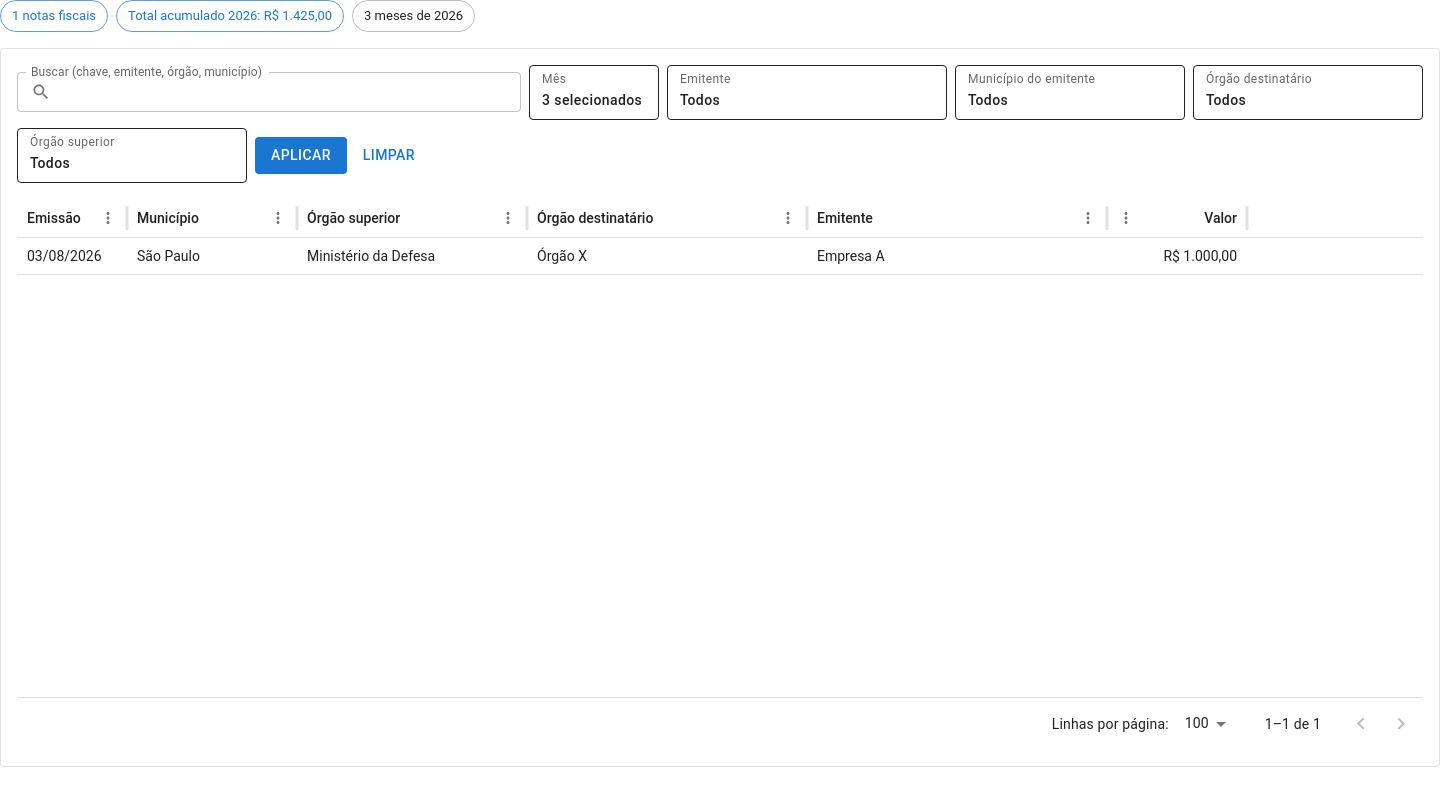
Test: TabelaNotas › pré-seleciona todos os meses do recorte e formata MM/AAAA
Click the button "Mês 3 selecionados".
click(594, 92)  # box [529,65,659,120]
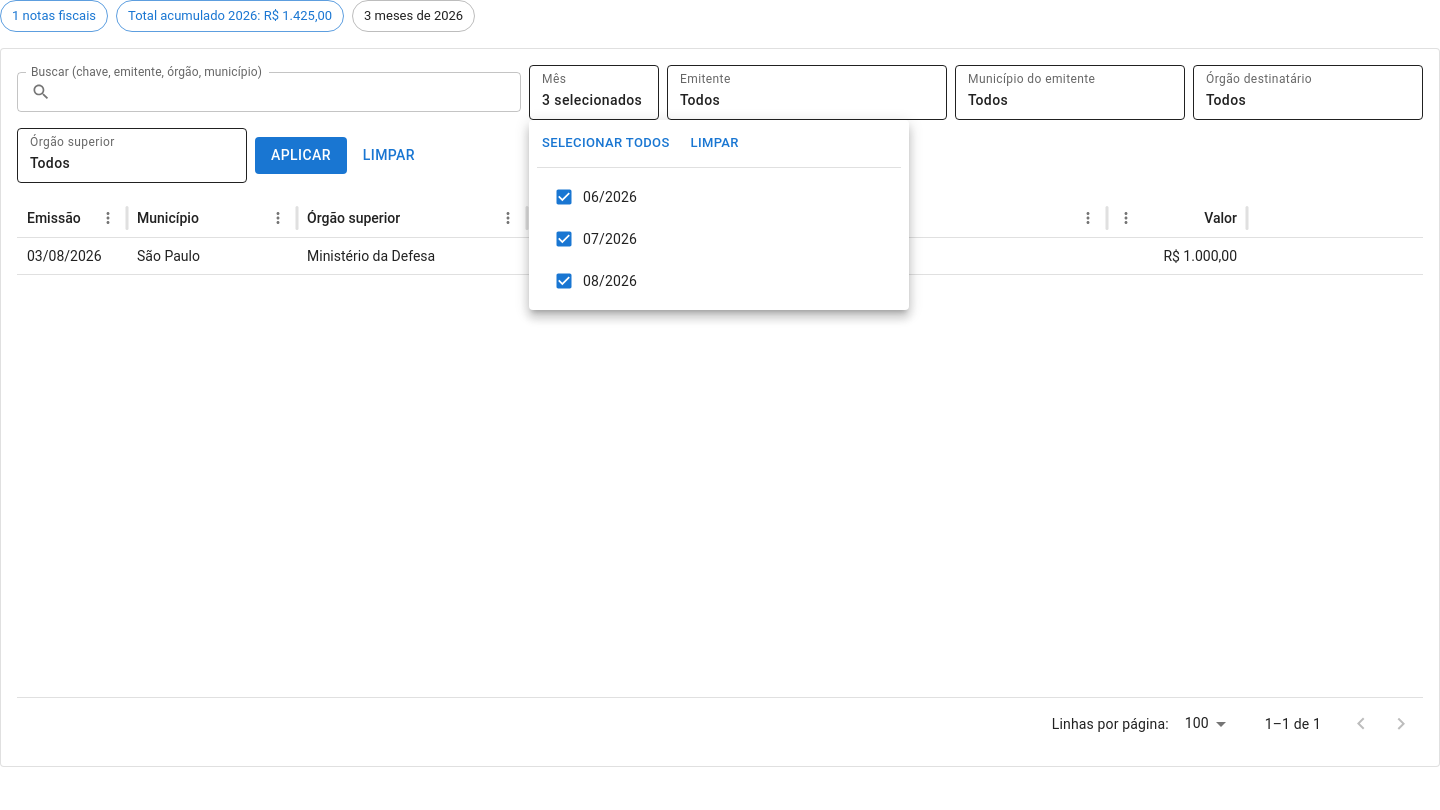
Result: the text "06/2026" is shown at [583,187,637,207]
Result: the text "07/2026" is shown at [583,229,637,249]
Result: the text "08/2026" is shown at [583,271,637,291]
